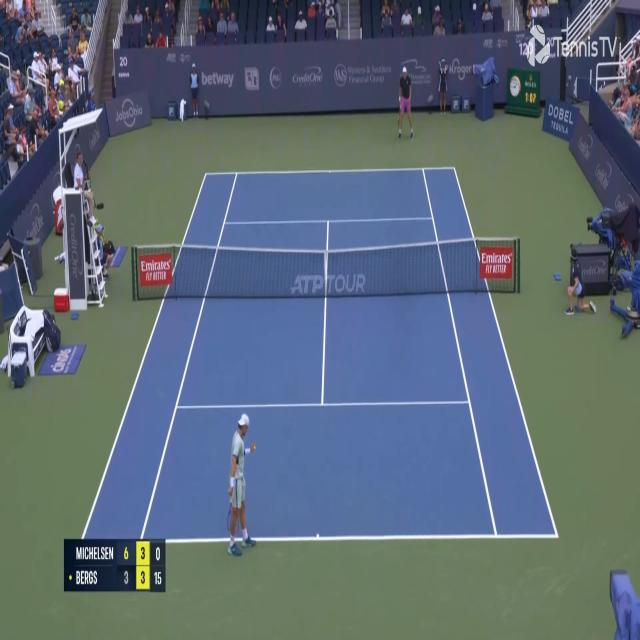tennis-player: (224, 409, 257, 560), (394, 65, 414, 141)
